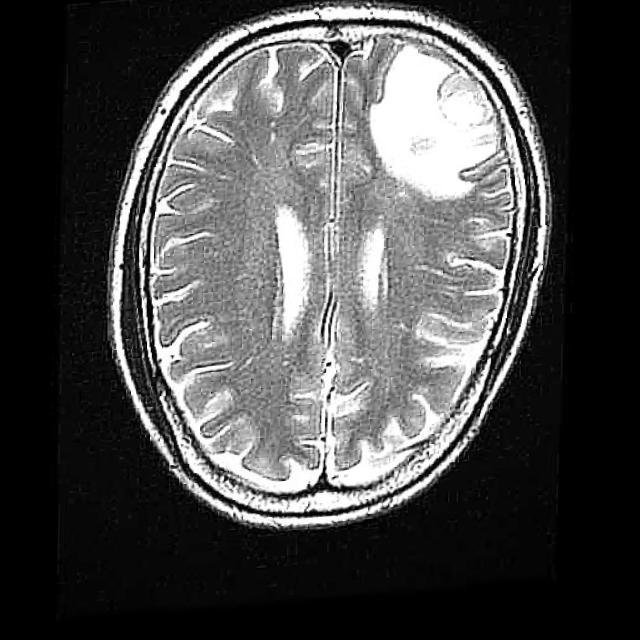Tumor: (371, 50, 500, 202)
